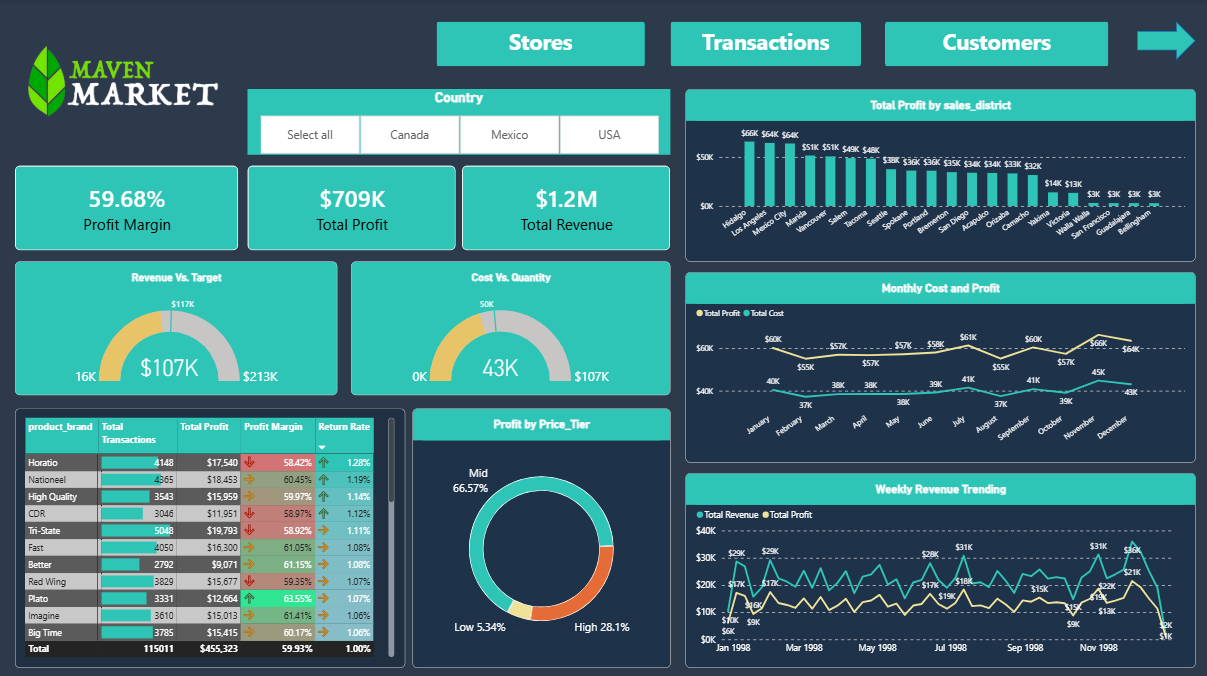

What the dashboard file says about the page in this screenshot:
{"tool":"powerbi","page":{"name":"Topline Performance","canvas":[1920,1080],"ordinal":0},"visuals":[{"type":"actionButton","box":[694.3,35.8,331.6,71.6],"z":0},{"type":"actionButton","box":[1066.5,35.8,303,71.6],"z":1000},{"type":"actionButton","box":[1407.7,35.8,355.5,71.6],"z":2000},{"type":"shape","box":[1808.5,35.8,93,61.2],"z":3000},{"type":"cardVisual","fields":{"Data":["Transactions_Data.Profit Margin"]},"box":[23.9,264.8,355.5,136],"z":4000},{"type":"cardVisual","fields":{"Data":["Transactions_Data.Total Revenue"]},"box":[734.9,264.8,331.6,136],"z":5000},{"type":"cardVisual","fields":{"Data":["Transactions_Data.Total Profit"]},"box":[393.7,264.8,331.6,136],"z":6000},{"type":"gauge","title":"Revenue Vs. Target","fields":{"MinValue":["Transactions_Data.Total Transactions"],"TargetValue":["Transactions_Data.Revenue Target"],"Y":["Transactions_Data.Total Revenue"]},"box":[23.9,417.5,513,212.3],"z":7000},{"type":"gauge","title":"Cost Vs. Quantity","fields":{"MaxValue":["Transactions_Data.Total Revenue"],"TargetValue":["Transactions_Data.Quantity sold"],"Y":["Transactions_Data.Total Cost"]},"box":[558.3,417.5,508.2,212.3],"z":8000},{"type":"columnChart","fields":{"Category":["Regions.sales_district"],"Y":["Transactions_Data.Total Profit"]},"box":[1090.4,143.2,811.2,274.4],"z":9000},{"type":"lineChart","title":"Monthly Cost and Profit","fields":{"Category":["Calendar.Start of month.Variation.Date Hierarchy.Month"],"Y":["Transactions_Data.Total Profit","Transactions_Data.Total Cost"]},"box":[1090.4,434.2,811.2,303],"z":10000},{"type":"areaChart","title":"Weekly Revenue Trending","fields":{"Category":["Calendar.Start of week"],"Y":["Transactions_Data.Total Revenue","Transactions_Data.Total Profit"]},"box":[1090.4,753.9,811.2,310.2],"z":11000},{"type":"donutChart","title":"Profit by Price_Tier","fields":{"Category":["Products.Price_Tier"],"Y":["Transactions_Data.Total Profit"]},"box":[656.1,651.4,410.4,412.8],"z":12000},{"type":"pivotTable","fields":{"Rows":["Products.product_brand"],"Values":["Transactions_Data.Total Transactions","Transactions_Data.Total Profit","Transactions_Data.Profit Margin","Returns_1997-1998.Return Rate"]},"box":[23.9,651.4,620.3,412.8],"z":13000},{"type":"slicer","title":"Country","fields":{"Values":["Stores.store_country"]},"box":[393.7,143.2,672.8,105],"z":14000},{"type":"image","box":[0,0,393.7,264.8],"z":15000}]}

Visuals, with their boxes in screenshot pixels (x1, y1, x2, y2), scaled from the page's 1920x1080 canvas onto the 1207x676 screenshot:
actionButton: crop(436, 22, 645, 67)
actionButton: crop(670, 22, 861, 67)
actionButton: crop(885, 22, 1108, 67)
shape: crop(1137, 22, 1195, 61)
cardVisual - Transactions_Data.Profit Margin: crop(15, 166, 239, 251)
cardVisual - Transactions_Data.Total Revenue: crop(462, 166, 670, 251)
cardVisual - Transactions_Data.Total Profit: crop(247, 166, 456, 251)
"Revenue Vs. Target" gauge: crop(15, 261, 338, 394)
"Cost Vs. Quantity" gauge: crop(351, 261, 670, 394)
columnChart - Regions.sales_district x Transactions_Data.Total Profit: crop(685, 90, 1195, 261)
"Monthly Cost and Profit" lineChart: crop(685, 272, 1195, 461)
"Weekly Revenue Trending" areaChart: crop(685, 472, 1195, 666)
"Profit by Price_Tier" donutChart: crop(412, 408, 670, 666)
pivotTable - Products.product_brand x Transactions_Data.Total Transactions: crop(15, 408, 405, 666)
"Country" slicer: crop(247, 90, 670, 155)
image: crop(0, 0, 247, 166)
